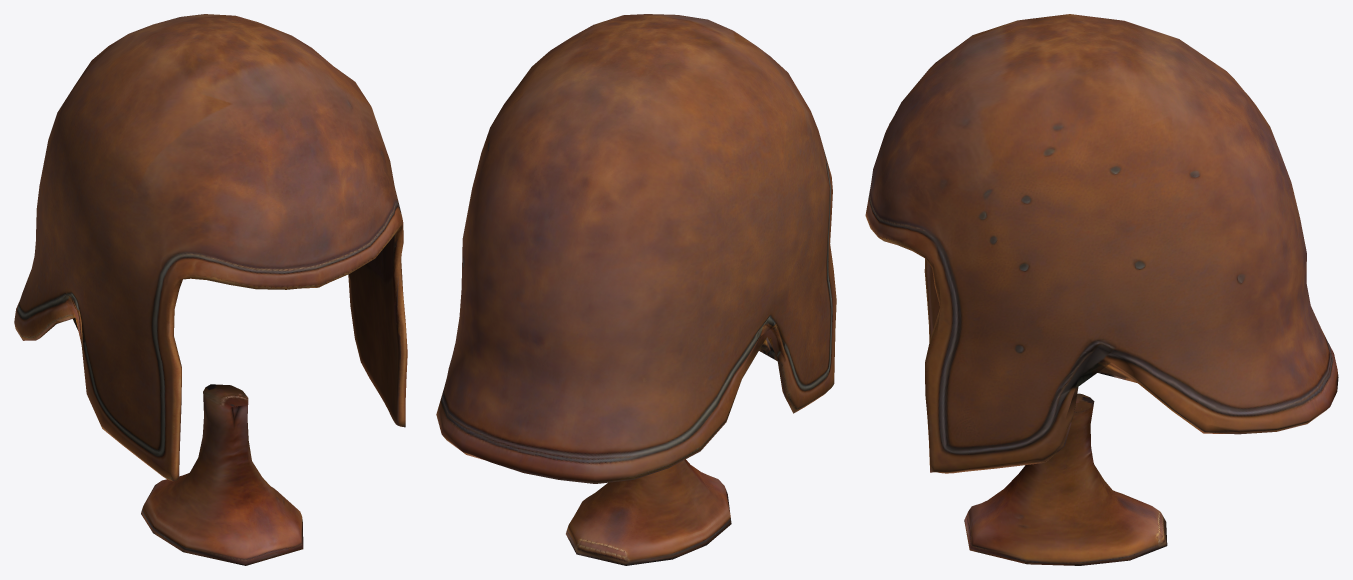
File: helmet-leather-hard-leather.glb
The picture shows the model from 3 angles, left to right: view 1: azimuth 30°, elevation 25°; view 2: azimuth 150°, elevation 25°; view 3: azimuth 270°, elevation 25°; orthographic projection. The views are drawn at different scales.
Bounding box in the file's own units: 1.2 × 1.99 × 1.69.
1 material, 1 textured.
